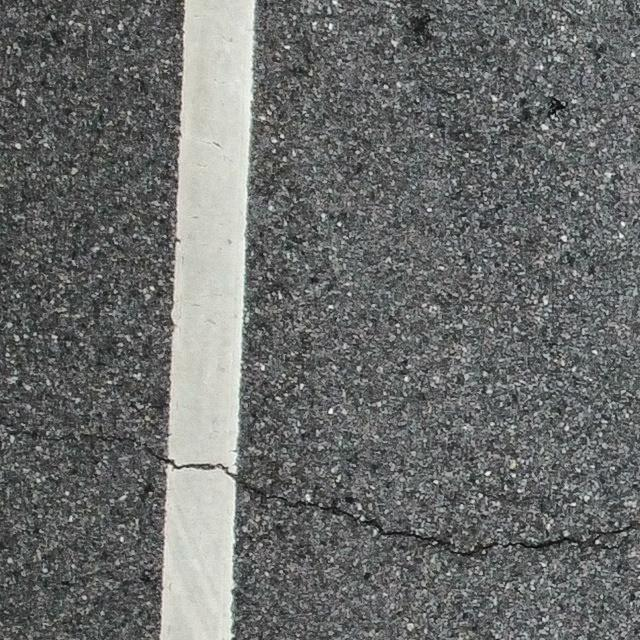TransverseCrack: (13, 426, 640, 558)
